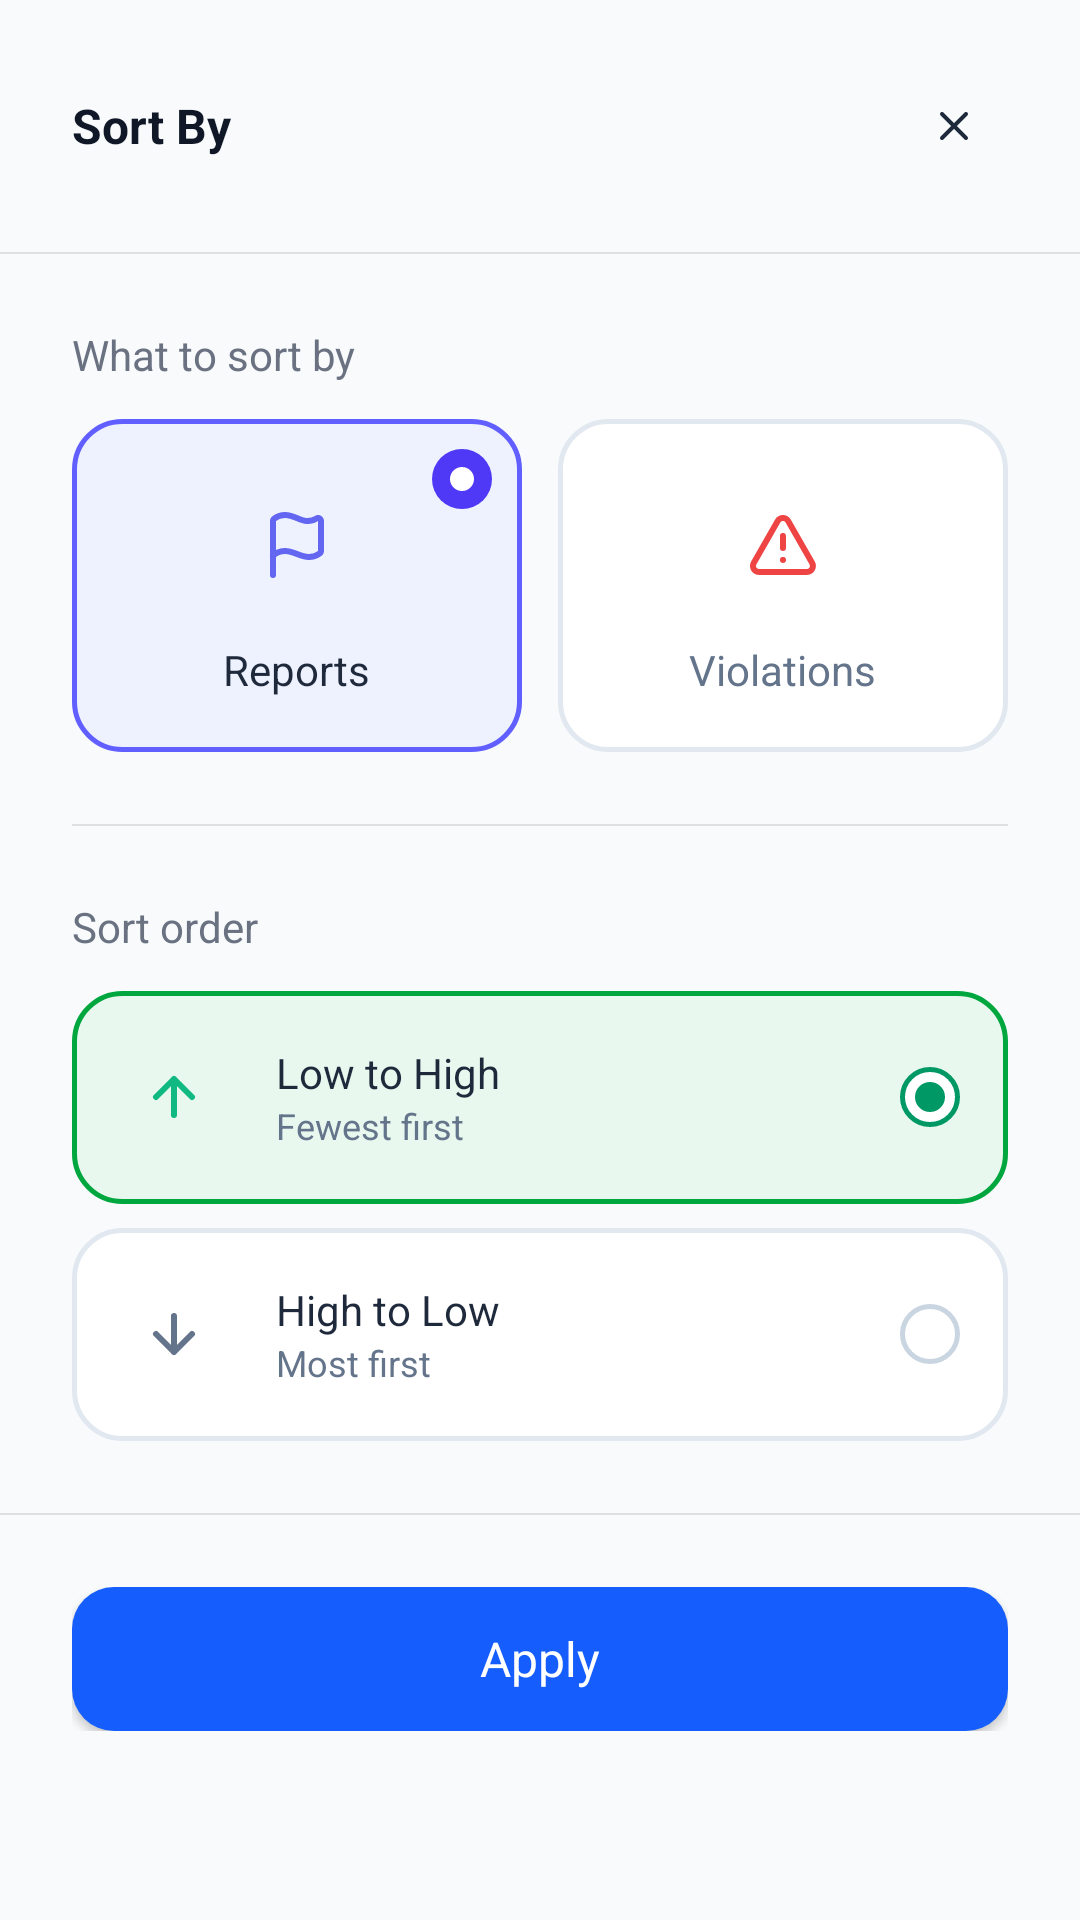

Icon click points for this 1080*1920 phone screenshot, format point (x, y):
Close: point (954, 126)
